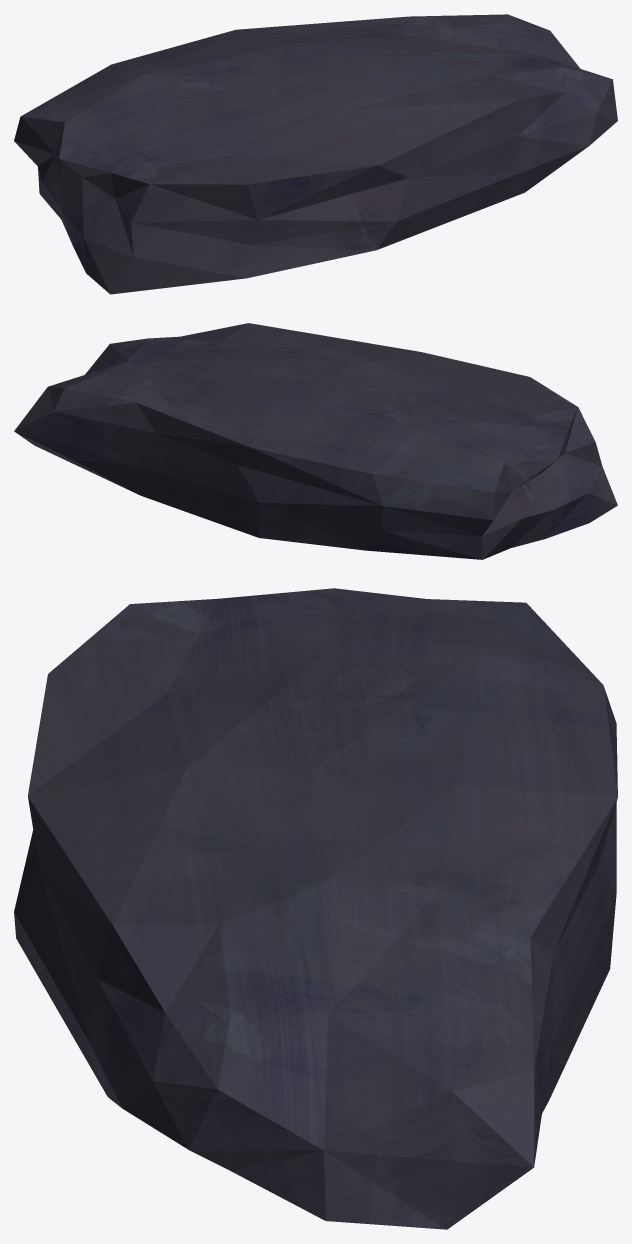
Rendered from Rock02.fbx.
3 views of the same model, one above another, from view 1: azimuth 30°, elevation 25°; view 2: azimuth 150°, elevation 25°; view 3: azimuth 270°, elevation 25° (orthographic). The views are drawn at different scales.
Parts seen in each view (by area): view 1: Rock02; view 2: Rock02; view 3: Rock02.
Boxes of the visible parts, x1=… form: Rock02: x1=14, y1=14, x2=617, y2=294; Rock02: x1=14, y1=323, x2=617, y2=559; Rock02: x1=14, y1=588, x2=617, y2=1229.
Bounding box in the file's own units: 2.48 × 0.5053 × 1.32.
1 material, 1 textured.
